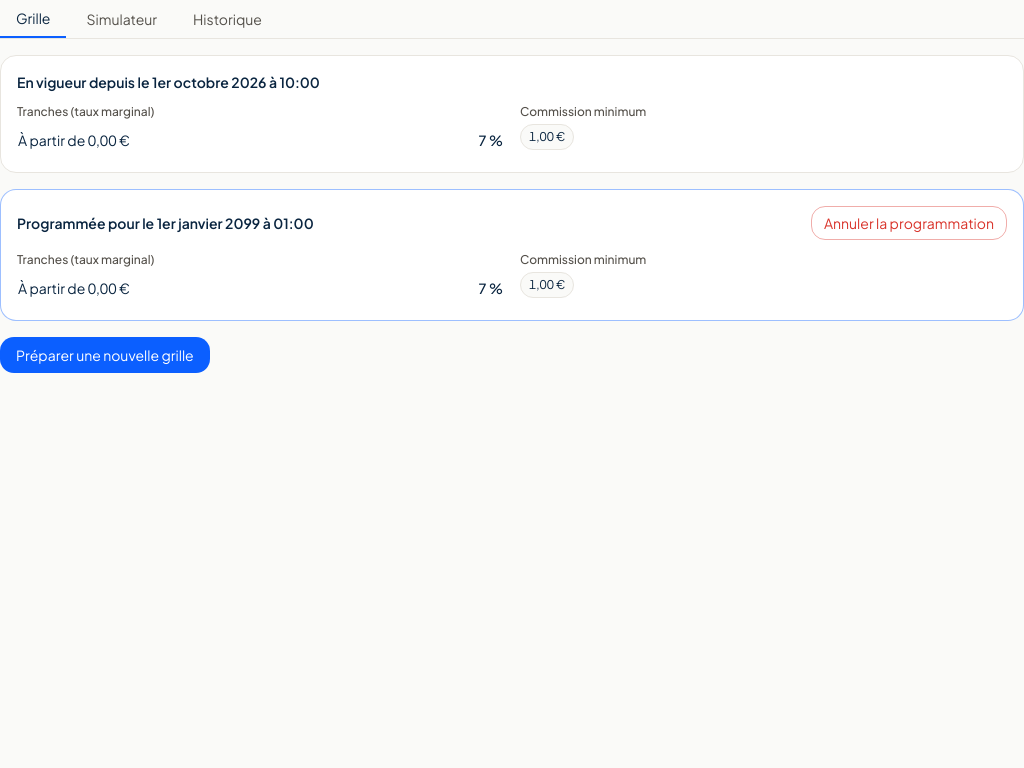
Test: /tarification › annuler la grille programmée : message de succès
Step 1. Click the button with test id "grid-scheduled-cancel" → coordinates (909, 223), box top-left (811, 206), bottom-right (1007, 240)
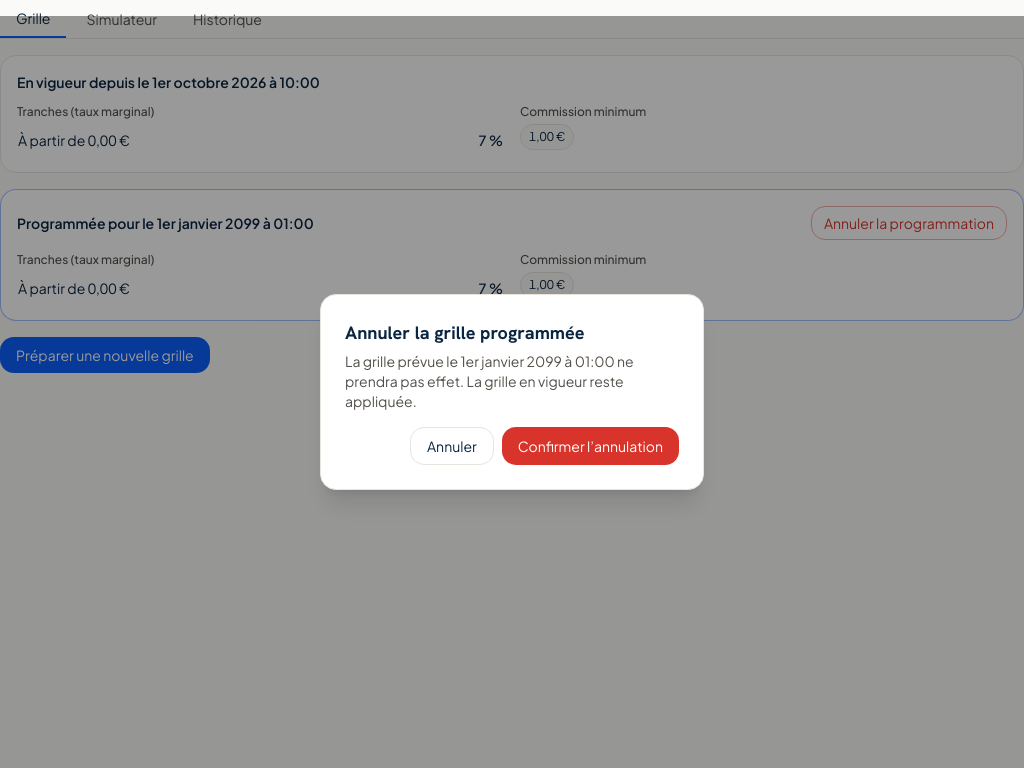
Step 2. Click the button with test id "confirm" → coordinates (590, 446), box top-left (502, 427), bottom-right (679, 465)
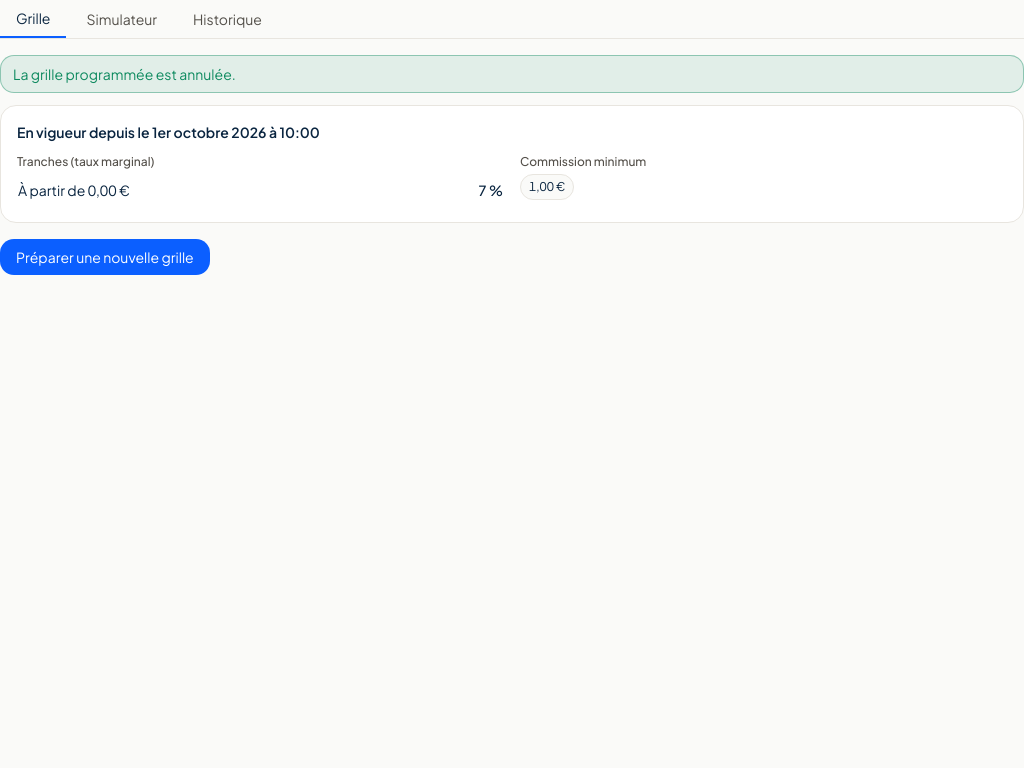
Expected: the message with test id "tarification-message" reads "La grille programmée est annulée.", top-left (13, 65), bottom-right (236, 83)
